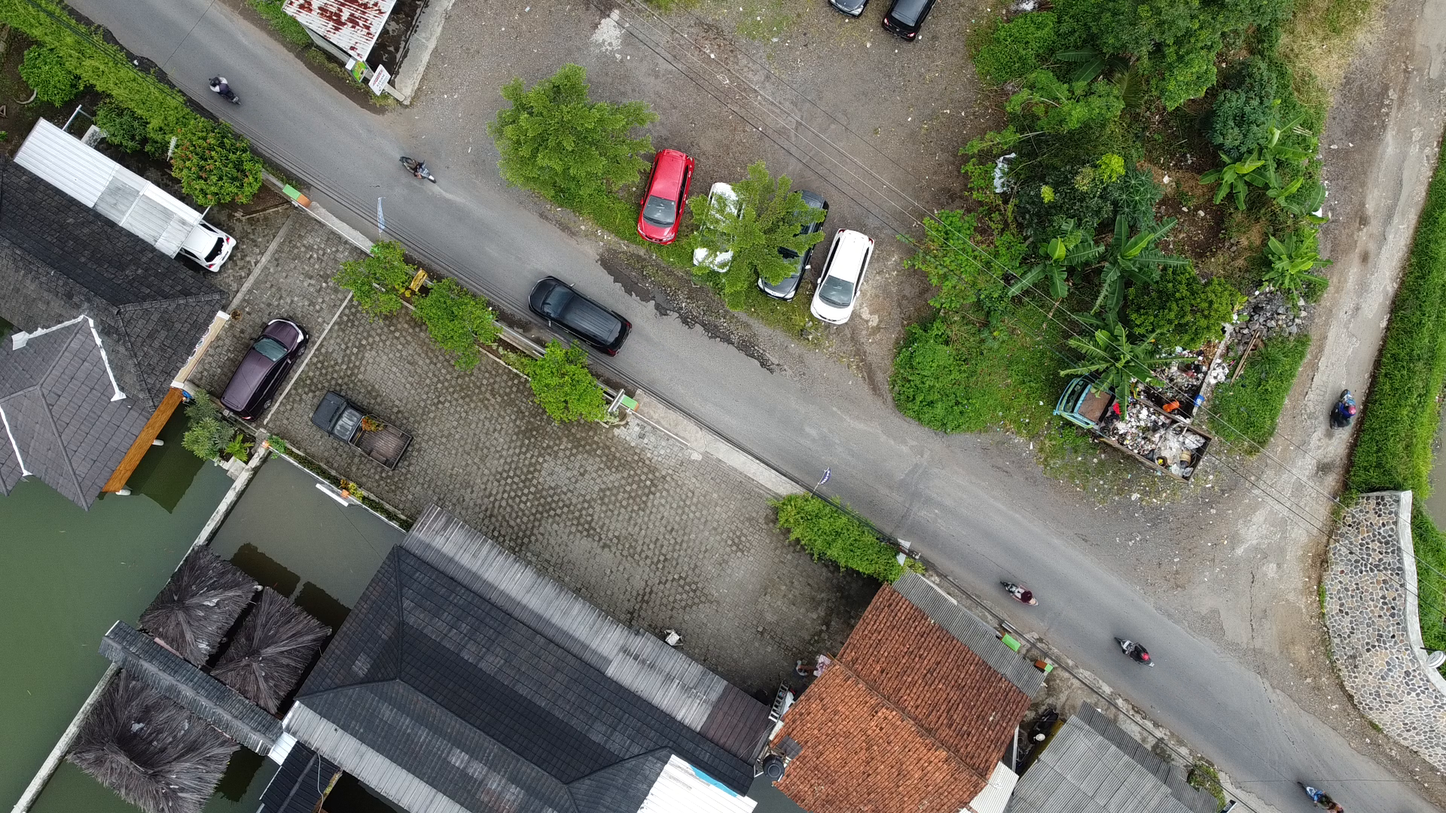mobil: (303, 377, 423, 481), (521, 269, 646, 360), (750, 176, 836, 305), (212, 309, 301, 427), (807, 209, 884, 343), (627, 139, 700, 247), (694, 172, 749, 280), (177, 215, 245, 266), (871, 1, 936, 49)
